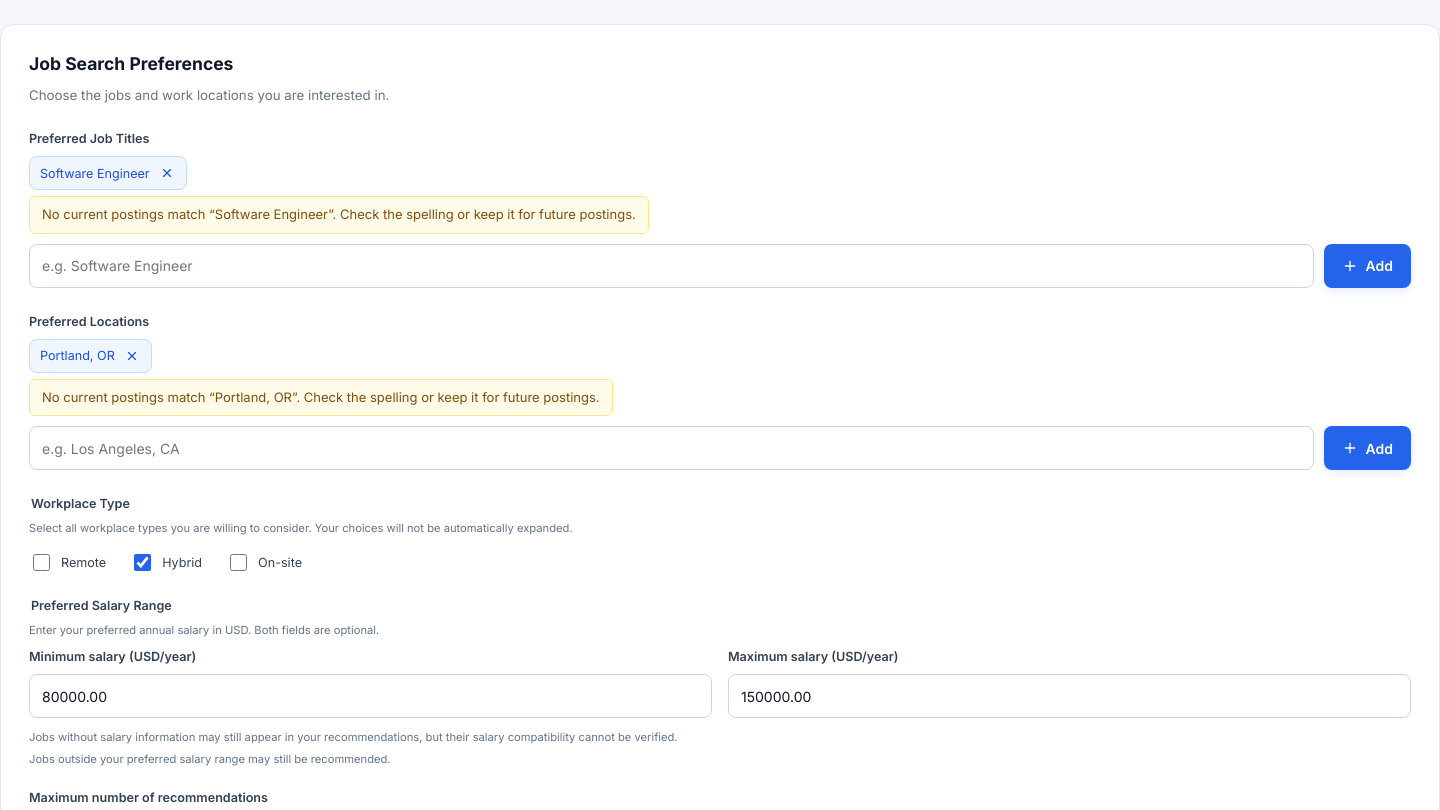
Test: SearchPreferencesForm (JH-021) › rejects empty locations
Check: the text "Software Engineer" is shown, box x1=29 y1=156 x2=187 y2=190
What coordinates should you click on to do the following:
click the 2nd button "Add"
I would click on:
 (1367, 448)
Its box is x1=1324 y1=426 x2=1411 y2=470.
(page scrolled)
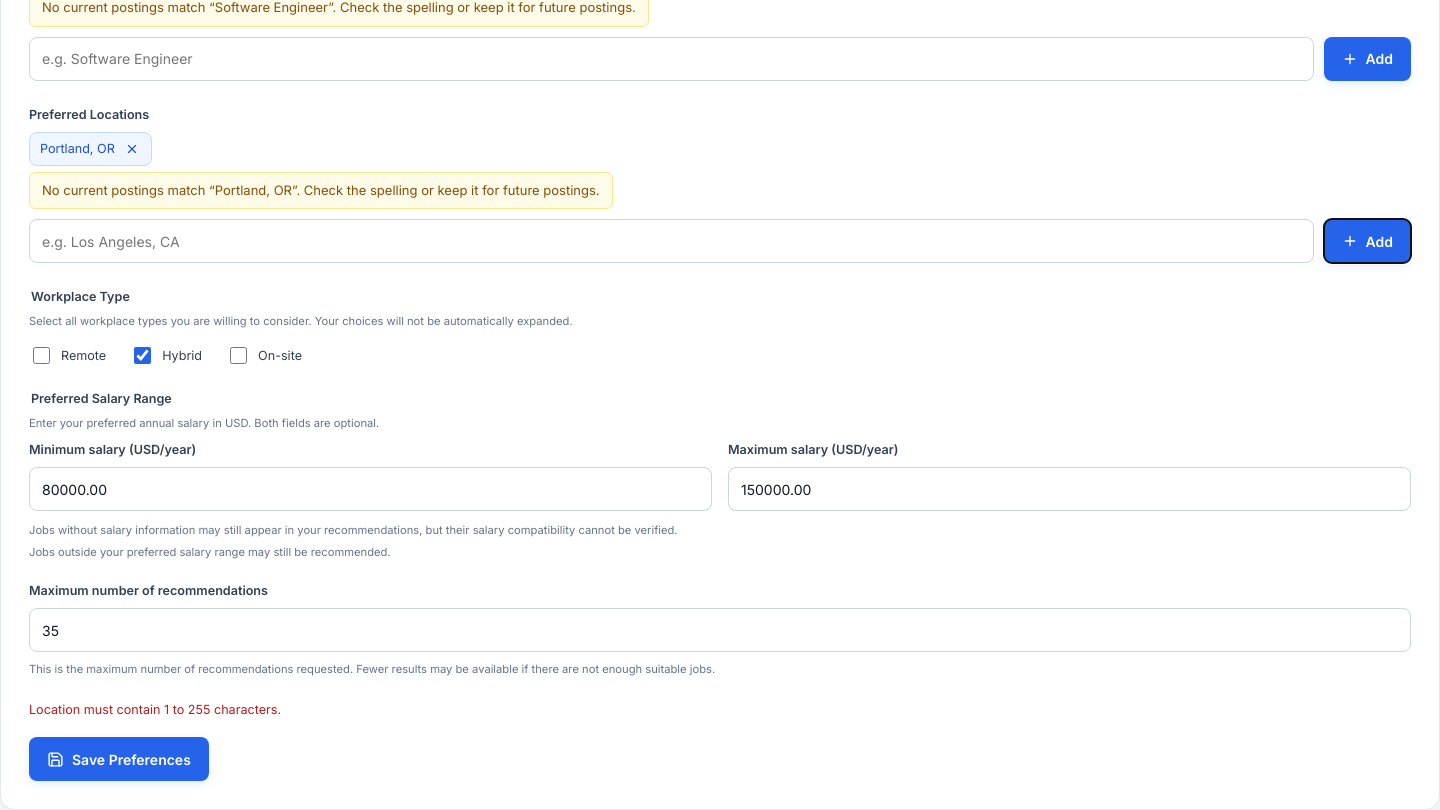
Check: the message "Location must contain 1 to 255 characters." is shown, box x1=29 y1=702 x2=281 y2=717
